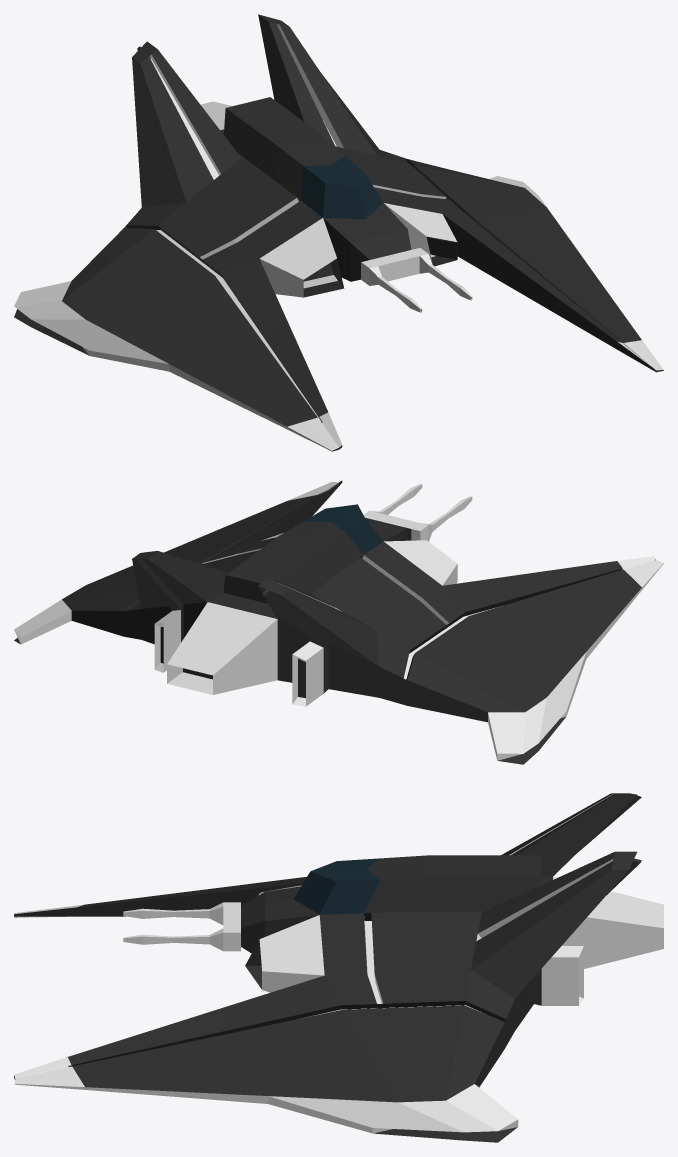
The model's file is spaceship-hunter.fbx.
3 renders of one model, top to bottom at view 1: azimuth 30°, elevation 25°; view 2: azimuth 150°, elevation 25°; view 3: azimuth 270°, elevation 25°, orthographic. The views are drawn at different scales.
Parts seen in each view (by area): view 1: Cube; view 2: Cube; view 3: Cube.
Boxes of the visible parts, left/top/right/bottom form: Cube: left=14, top=14, right=663, bottom=451; Cube: left=14, top=480, right=663, bottom=764; Cube: left=14, top=793, right=663, bottom=1142.
Bounding box in the file's own units: 1742 × 584 × 1826.
